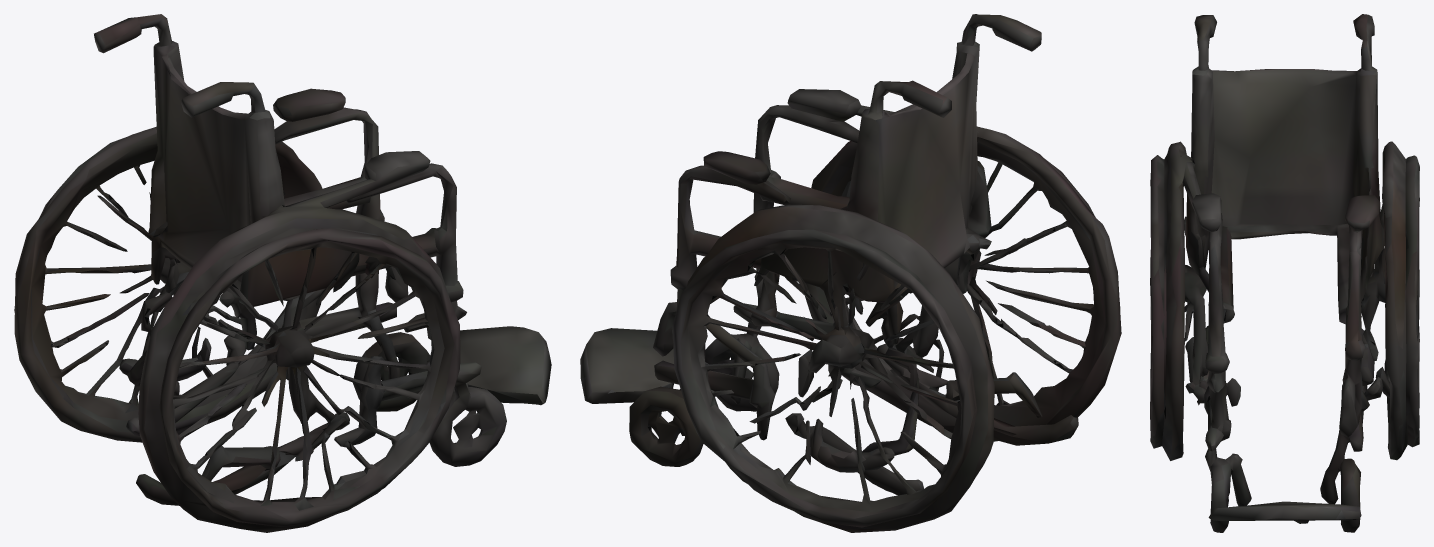
The model's file is simple-iron-wheelchair-v002.glb.
The picture shows the model from 3 angles, left to right: view 1: azimuth 30°, elevation 25°; view 2: azimuth 150°, elevation 25°; view 3: azimuth 270°, elevation 25°; orthographic projection. The views are drawn at different scales.
Visible parts, largest first — view 1: simple-iron-wheelchair; view 2: simple-iron-wheelchair; view 3: simple-iron-wheelchair.
Boxes of the visible parts, left/top/right/bottom form: simple-iron-wheelchair: left=14, top=14, right=551, bottom=532; simple-iron-wheelchair: left=580, top=14, right=1121, bottom=532; simple-iron-wheelchair: left=1150, top=14, right=1419, bottom=532.
Bounding box in the file's own units: 1.06 × 0.9785 × 0.6008.
1 material, 1 textured.
